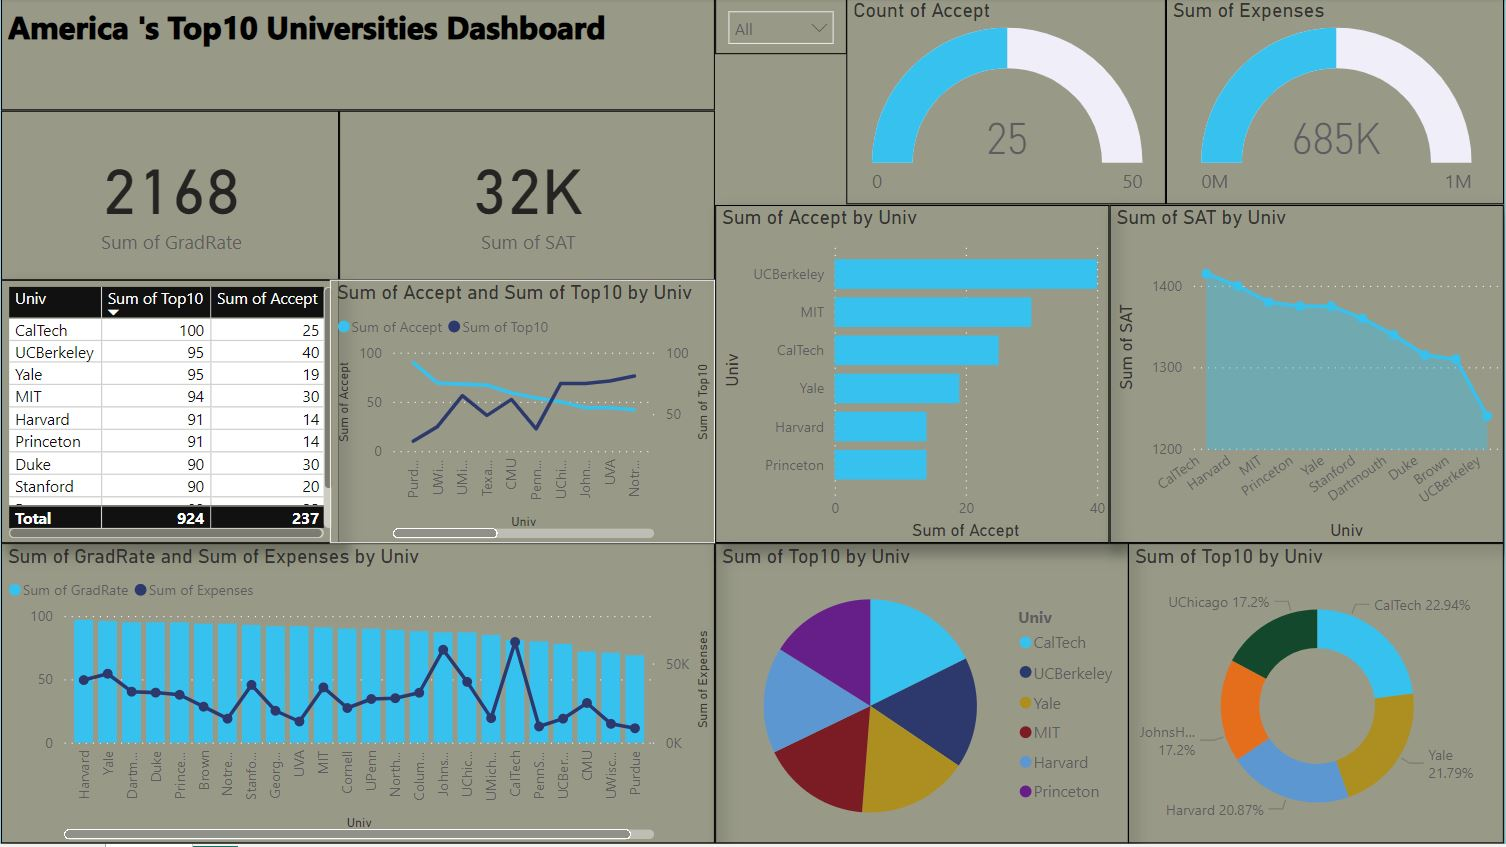

Layout of this report page (visuals, bound fields, positions):
{"tool":"powerbi","page":{"name":"Page 1","canvas":[1280,720],"ordinal":0},"visuals":[{"type":"lineStackedColumnComboChart","fields":{"Category":["Universities.Univ"],"Y":["Sum(Universities.GradRate)"],"Y2":["Sum(Universities.Expenses)"]},"box":[0,464,608,256],"z":0},{"type":"gauge","fields":{"Y":["CountNonNull(Universities.Accept)"]},"box":[720,0,272,176],"z":1000},{"type":"gauge","fields":{"Y":["Sum(Universities.Expenses)"]},"box":[992,0,288,176],"z":2000},{"type":"card","fields":{"Values":["Sum(Universities.GradRate)"]},"box":[0,96,288,144],"z":3000},{"type":"card","fields":{"Values":["Sum(Universities.SAT)"]},"box":[288,96,320,144],"z":4000},{"type":"pieChart","fields":{"Category":["Universities.Univ"],"Y":["Sum(Universities.Top10)"]},"box":[608,464,352,256],"z":5000},{"type":"clusteredBarChart","fields":{"Category":["Universities.Univ"],"Y":["Sum(Universities.Accept)"]},"box":[608,176,336,288],"z":6000},{"type":"textbox","box":[0,0,608,96],"z":7000},{"type":"slicer","fields":{"Values":["Universities.Univ"]},"box":[608,0,112,48],"z":8000},{"type":"areaChart","fields":{"Category":["Universities.Univ"],"Y":["Sum(Universities.SAT)"]},"box":[944,176,336,288],"z":9000},{"type":"donutChart","fields":{"Category":["Universities.Univ"],"Y":["Sum(Universities.Top10)"]},"box":[960,464,320,256],"z":10000},{"type":"tableEx","fields":{"Values":["Universities.Univ","Sum(Universities.Top10)","Sum(Universities.Accept)"]},"box":[0,240,288,224],"z":11000},{"type":"lineChart","fields":{"Category":["Universities.Univ"],"Y":["Sum(Universities.Accept)"],"Y2":["Sum(Universities.Top10)"]},"box":[280,240,328,224],"z":12000}]}

Visuals, with their boxes in screenshot pixels (x1, y1, x2, y2), scaled from the page's 1280x720 canvas onto the 1506x847 screenshot:
lineStackedColumnComboChart - Universities.Univ x Sum(Universities.GradRate): region(0, 546, 715, 846)
gauge - CountNonNull(Universities.Accept): region(847, 0, 1167, 207)
gauge - Sum(Universities.Expenses): region(1167, 0, 1505, 207)
card - Sum(Universities.GradRate): region(0, 113, 339, 282)
card - Sum(Universities.SAT): region(339, 113, 715, 282)
pieChart - Universities.Univ x Sum(Universities.Top10): region(715, 546, 1130, 846)
clusteredBarChart - Universities.Univ x Sum(Universities.Accept): region(715, 207, 1111, 546)
textbox: region(0, 0, 715, 113)
slicer - Universities.Univ: region(715, 0, 847, 56)
areaChart - Universities.Univ x Sum(Universities.SAT): region(1111, 207, 1505, 546)
donutChart - Universities.Univ x Sum(Universities.Top10): region(1130, 546, 1505, 846)
tableEx - Universities.Univ x Sum(Universities.Top10): region(0, 282, 339, 546)
lineChart - Universities.Univ x Sum(Universities.Accept): region(329, 282, 715, 546)
